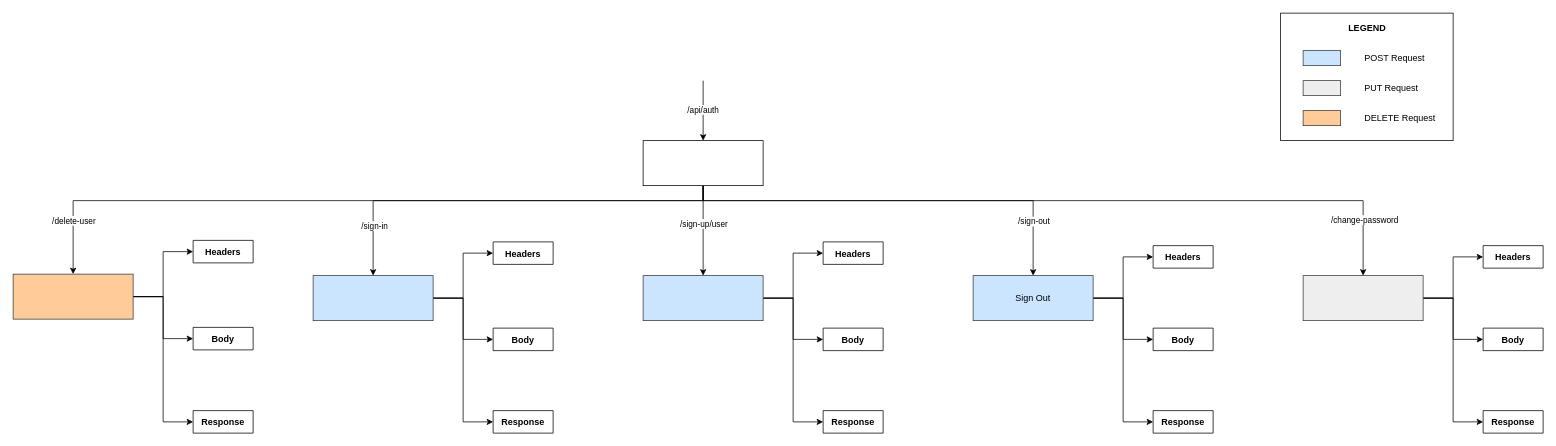
Some shapes in this 1556 by 446 pixel diagram are drawn without their labels. The shapes that lost their labels are listed below. From the top down, each one's centre as x and y in pixels, then its label:
At (x=702, y=163): "Auth".
At (x=72, y=296): "Delete User".
At (x=372, y=298): "Sign In User".
At (x=702, y=298): "Sign Up User".
At (x=1362, y=298): "Change Password".
